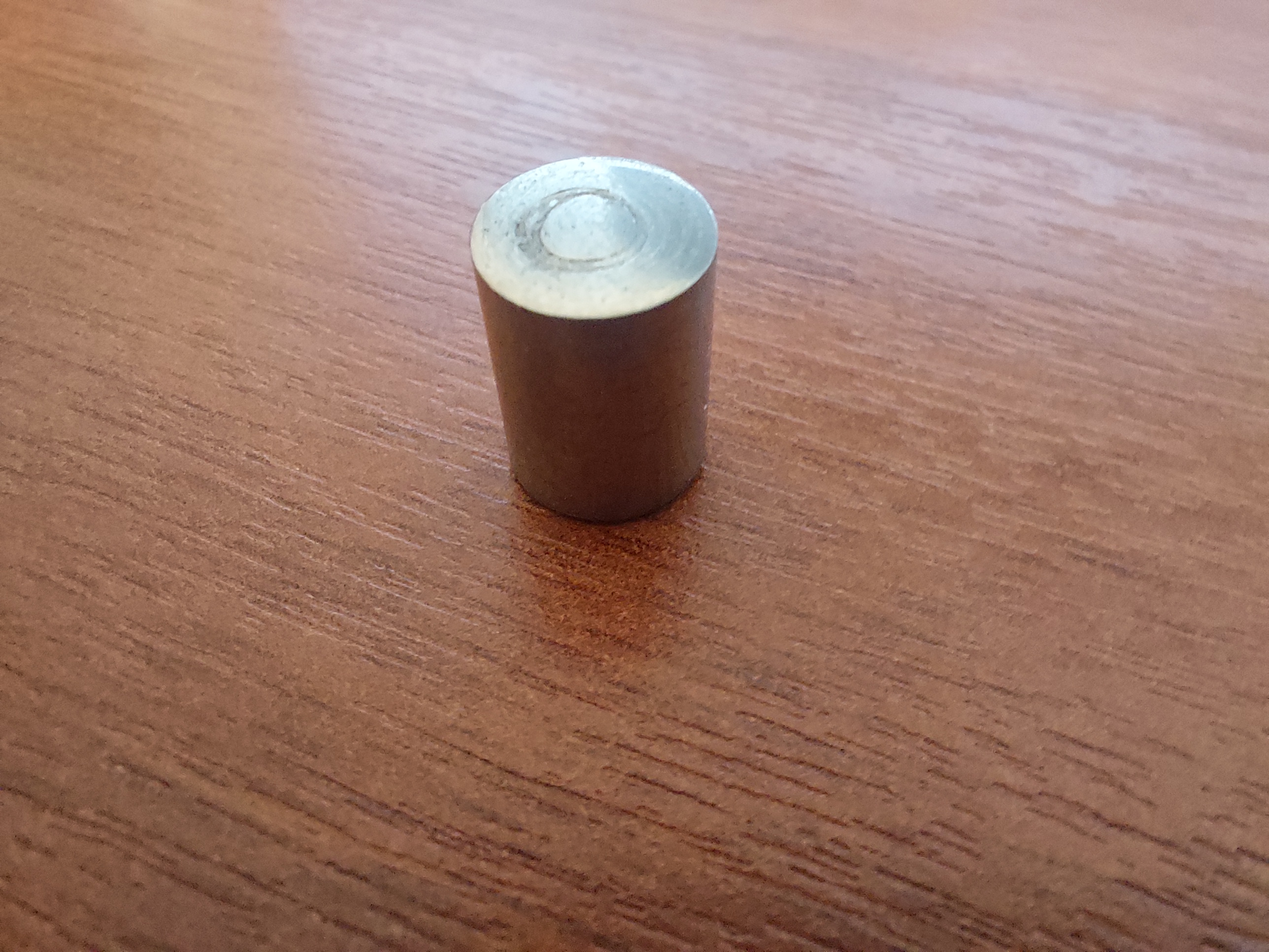tablet: (438, 125, 751, 545)
